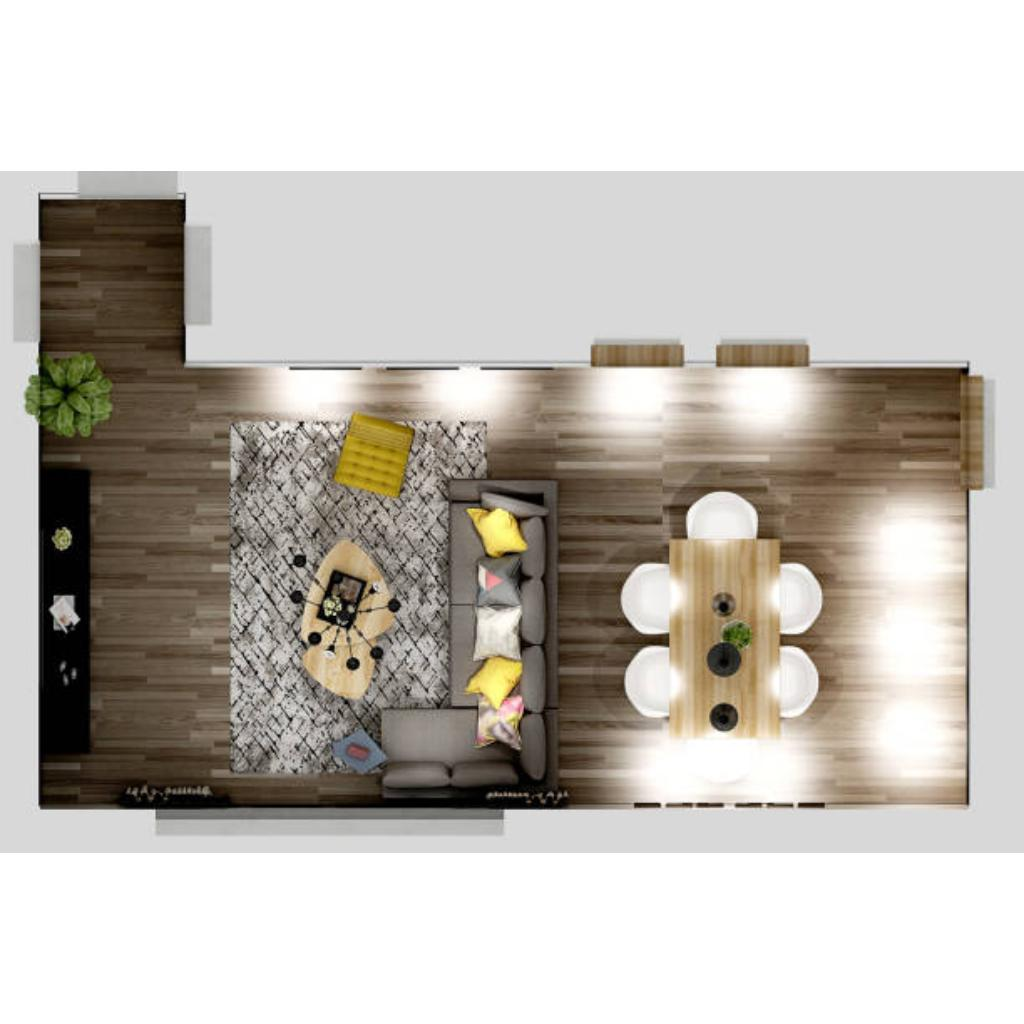chair: (682, 737, 758, 787), (622, 643, 670, 719), (684, 491, 760, 539), (621, 562, 669, 636), (780, 564, 824, 636), (778, 646, 820, 718)
coffee table: (294, 536, 396, 700)
dining table: (669, 540, 779, 738)
floor plant: (43, 364, 109, 430), (592, 344, 684, 370), (718, 345, 810, 369)
rug: (230, 420, 486, 774)
shelves: (960, 376, 984, 490)
side table: (332, 728, 378, 776)
sideboard: (40, 468, 94, 754)
sofa: (448, 480, 558, 706), (383, 710, 559, 796)
window: (961, 594, 981, 704), (962, 708, 982, 808), (961, 498, 981, 590)
